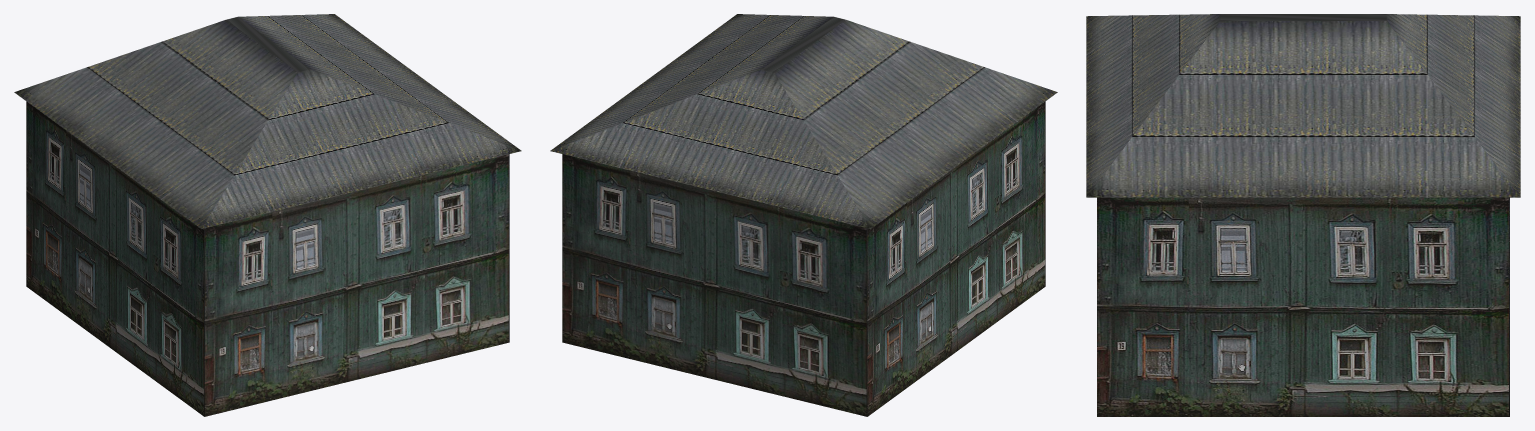
The model's file is d_dom_2et_45.FBX.
3 renders of one model, left to right at view 1: azimuth 30°, elevation 25°; view 2: azimuth 150°, elevation 25°; view 3: azimuth 270°, elevation 25°, orthographic. The views are drawn at different scales.
Visible parts, largest first — view 1: d_dom_2et_45; view 2: d_dom_2et_45; view 3: d_dom_2et_45.
Boxes of the visible parts, box(x1,y1,x2,y2) form: d_dom_2et_45: box(14, 14, 521, 416); d_dom_2et_45: box(550, 14, 1057, 416); d_dom_2et_45: box(1086, 14, 1520, 416).
Bounding box in the file's own units: 10.65 × 10.77 × 8.57.
